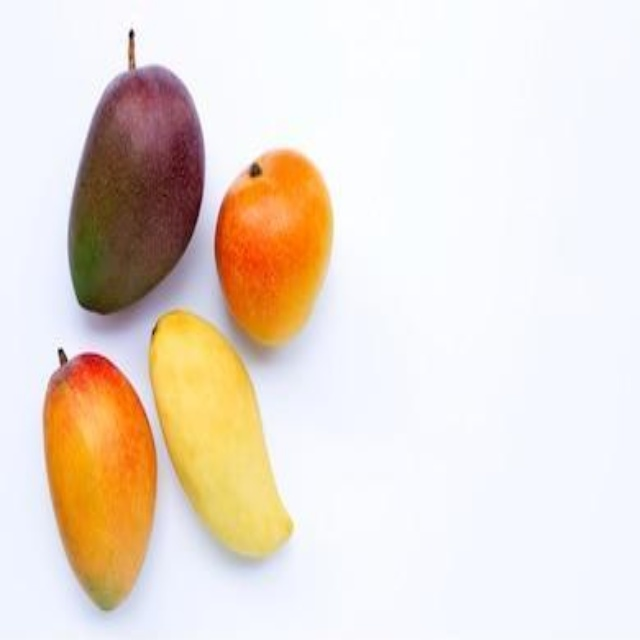mango: (147, 313, 297, 560), (65, 58, 196, 305), (35, 344, 156, 607), (212, 146, 332, 336)
